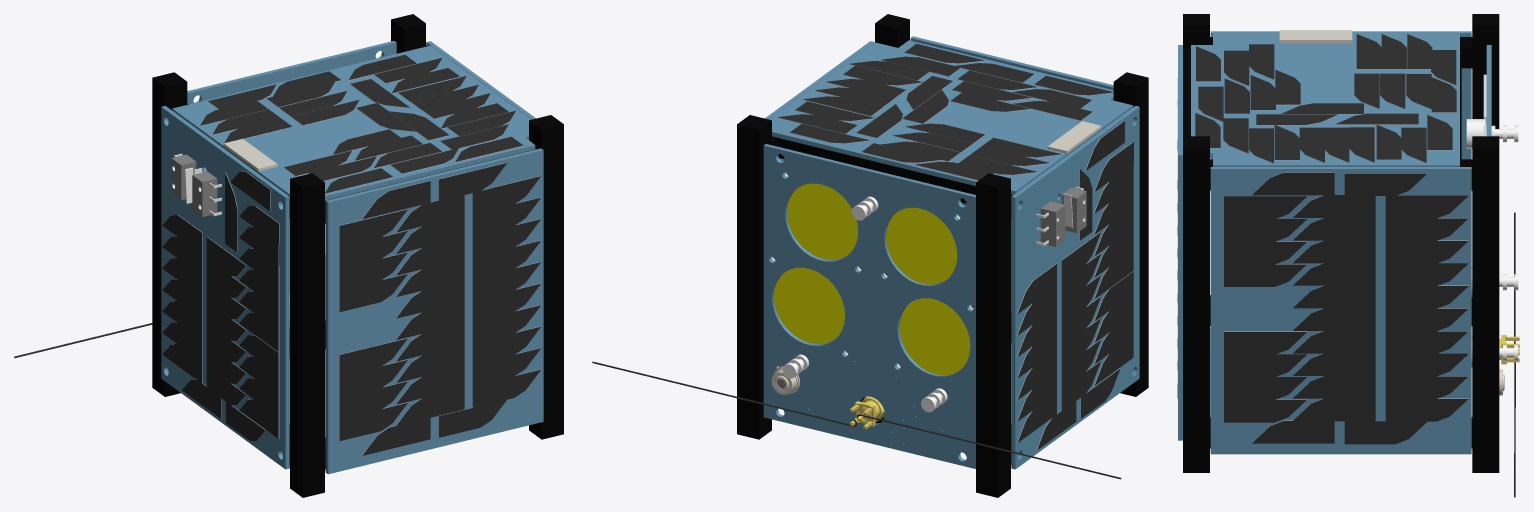
File: sat.gltf
3 renders of one model, left to right at view 1: azimuth 30°, elevation 25°; view 2: azimuth 150°, elevation 25°; view 3: azimuth 270°, elevation 25°, orthographic. The views are drawn at different scales.
Parts seen in each view (by area): view 1: mesh 2 rbfpanelv1-1/TrisolXcell v3-16-solid1, mesh 6 accesspanelv4-1/TrisolXcell v3-22-solid1 face, mesh 14 toppanelv5-1/TrisolXcell v3-1-solid1 face, mesh 15 accesspanelv4-1/TrisolXcell v3-8-solid1, mesh 1 sm, mesh 8 sidepanelv5-5/TrisolXcell v3-6-solid1 face, mesh 3 rbfpanelv1-1/TrisolXcell v3-16-solid1 face; view 2: mesh 6 accesspanelv4-1/TrisolXcell v3-22-solid1 face, mesh 2 rbfpanelv1-1/TrisolXcell v3-16-solid1, mesh 14 toppanelv5-1/TrisolXcell v3-1-solid1 face, mesh 7 sidepanelv5-5/TrisolXcell v3-6-solid1, mesh 15 accesspanelv4-1/TrisolXcell v3-8-solid1, mesh 1 sm, mesh 8 sidepanelv5-5/TrisolXcell v3-6-solid1 face, mesh 4 accesspanelv4-1/68611614422_FFC16-1-solid1 face, mesh 3 rbfpanelv1-1/TrisolXcell v3-16-solid1 face, mesh 11 rbfpanelv1-1/TrisolXcell v3-23-solid1; view 3: mesh 2 rbfpanelv1-1/TrisolXcell v3-16-solid1, mesh 6 accesspanelv4-1/TrisolXcell v3-22-solid1 face, mesh 14 toppanelv5-1/TrisolXcell v3-1-solid1 face, mesh 1 sm, mesh 4 accesspanelv4-1/68611614422_FFC16-1-solid1 face, mesh 15 accesspanelv4-1/TrisolXcell v3-8-solid1, mesh 3 rbfpanelv1-1/TrisolXcell v3-16-solid1 face.
Boxes of the visible parts, x1,y1,x2,y2 form: mesh 2 rbfpanelv1-1/TrisolXcell v3-16-solid1: [14, 55, 540, 455]; mesh 6 accesspanelv4-1/TrisolXcell v3-22-solid1 face: [163, 41, 543, 474]; mesh 14 toppanelv5-1/TrisolXcell v3-1-solid1 face: [152, 14, 563, 497]; mesh 15 accesspanelv4-1/TrisolXcell v3-8-solid1: [161, 106, 289, 469]; mesh 1 sm: [172, 58, 540, 455]; mesh 8 sidepanelv5-5/TrisolXcell v3-6-solid1 face: [171, 154, 289, 359]; mesh 3 rbfpanelv1-1/TrisolXcell v3-16-solid1 face: [223, 138, 277, 171]; mesh 6 accesspanelv4-1/TrisolXcell v3-22-solid1 face: [763, 36, 1137, 468]; mesh 2 rbfpanelv1-1/TrisolXcell v3-16-solid1: [592, 43, 1133, 479]; mesh 14 toppanelv5-1/TrisolXcell v3-1-solid1 face: [737, 14, 1148, 497]; mesh 7 sidepanelv5-5/TrisolXcell v3-6-solid1: [774, 183, 970, 375]; mesh 15 accesspanelv4-1/TrisolXcell v3-8-solid1: [1011, 106, 1139, 469]; mesh 1 sm: [771, 52, 1133, 450]; mesh 8 sidepanelv5-5/TrisolXcell v3-6-solid1 face: [777, 187, 1086, 388]; mesh 4 accesspanelv4-1/68611614422_FFC16-1-solid1 face: [782, 196, 947, 412]; mesh 3 rbfpanelv1-1/TrisolXcell v3-16-solid1 face: [1047, 121, 1101, 153]; mesh 11 rbfpanelv1-1/TrisolXcell v3-23-solid1: [850, 396, 884, 429]; mesh 2 rbfpanelv1-1/TrisolXcell v3-16-solid1: [1195, 34, 1515, 497]; mesh 6 accesspanelv4-1/TrisolXcell v3-22-solid1 face: [1178, 33, 1491, 454]; mesh 14 toppanelv5-1/TrisolXcell v3-1-solid1 face: [1183, 14, 1499, 472]; mesh 1 sm: [1177, 66, 1486, 442]; mesh 4 accesspanelv4-1/68611614422_FFC16-1-solid1 face: [1466, 119, 1518, 367]; mesh 15 accesspanelv4-1/TrisolXcell v3-8-solid1: [1210, 31, 1471, 159]; mesh 3 rbfpanelv1-1/TrisolXcell v3-16-solid1 face: [1279, 30, 1352, 42].
Bounding box in the file's own units: 0.2025 × 0.1135 × 0.1081.
